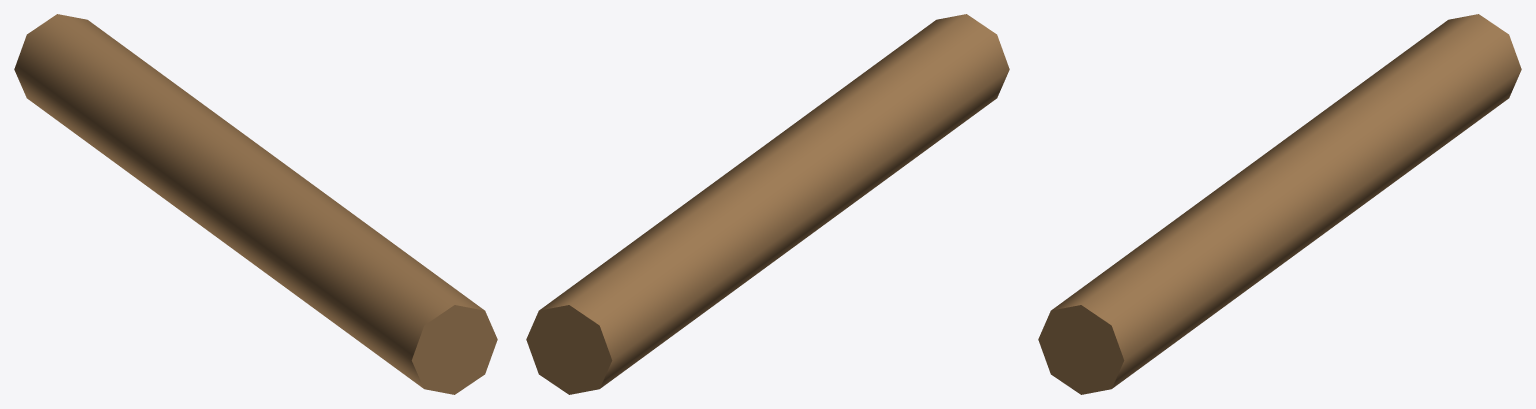
The picture shows the model from 3 angles, left to right: view 1: azimuth 30°, elevation 25°; view 2: azimuth 150°, elevation 25°; view 3: azimuth 330°, elevation 25°; orthographic projection.
Parts seen in each view (by area): view 1: eave-rafter-a@1.0.0; view 2: eave-rafter-a@1.0.0; view 3: eave-rafter-a@1.0.0.
Boxes of the visible parts, x1,y1,x2,y2 form: eave-rafter-a@1.0.0: (14,14,497,394); eave-rafter-a@1.0.0: (526,14,1009,394); eave-rafter-a@1.0.0: (1038,14,1521,394).
Size of the model in its own units: 0.25 by 0.25 by 2.
